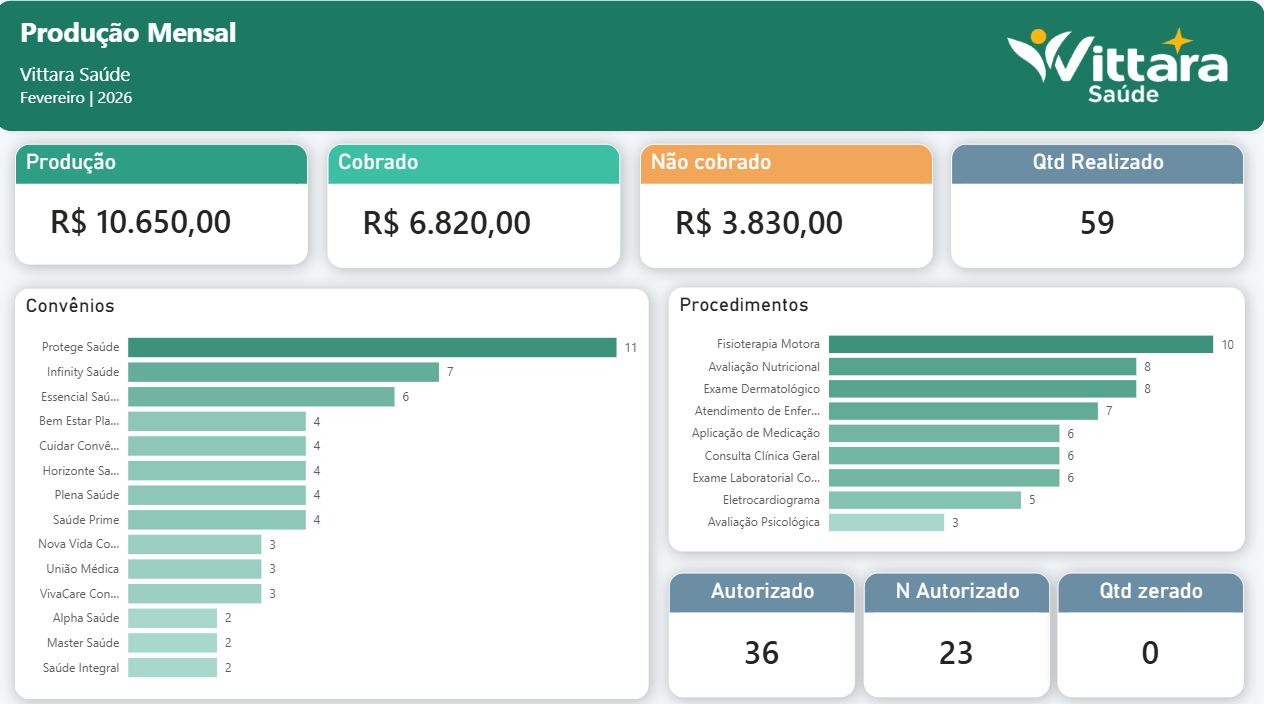

Layout of this report page (visuals, bound fields, positions):
{"tool":"powerbi","page":{"name":"Página 1","canvas":[1280,720],"ordinal":0},"visuals":[{"type":"barChart","title":"Convênios","fields":{"Category":["ProdFev.Convênio"],"Y":["CountNonNull(ProdFev.Convênio)"]},"box":[25,293.3,633.3,410],"z":0},{"type":"clusteredBarChart","title":" Procedimentos ","fields":{"Category":["Cadastro de Autorizações.Procedimento"],"Y":["CountNonNull(Cadastro de Autorizações.Procedimento)"]},"box":[678.6,292.9,576.2,264.3],"z":1000},{"type":"cardVisual","title":"Produção","fields":{"Data":["Sum(ProdFev.Valor)"]},"box":[25.6,149.3,293,120.9],"z":2000},{"type":"cardVisual","title":"Não cobrado","fields":{"Data":["Sum(ProdFev.Valor)"]},"box":[650,149.3,293,123.7],"z":3000},{"type":"cardVisual","title":"Cobrado","fields":{"Data":["Sum(ProdFev.Valor)"]},"box":[337.1,149.3,293,123.7],"z":4000},{"type":"cardVisual","title":"Autorizado","fields":{"Data":["ProdFev.QtadAut"]},"box":[678.4,577.4,186.3,125.2],"z":5000},{"type":"cardVisual","title":"Qtd Realizado","fields":{"Data":["ProdFev.QuantRealizado"]},"box":[961.4,149.3,293,123.7],"z":6000},{"type":"cardVisual","title":"N Autorizado","fields":{"Data":["ProdFev.QtadAut"]},"box":[873.2,577.4,186.3,125.2],"z":7000},{"type":"cardVisual","title":"Qtd zerado","fields":{"Data":["Sum(ProdFev.Valor)"]},"box":[1068.1,577.4,186.3,125.2],"z":8000},{"type":"shape","box":[0,0,1280.3,141.8],"z":9000},{"type":"textbox","box":[25.6,14.2,278.8,72.5],"z":10000},{"type":"textbox","box":[25.6,61.2,202,66.8],"z":11000},{"type":"image","box":[1016.2,14.7,225,111.3],"z":12000}]}

Visuals, with their boxes in screenshot pixels (x1, y1, x2, y2), scaled from the page's 1280x720 canvas onto the 1264x704 screenshot:
"Convênios" barChart: x1=25, y1=287, x2=650, y2=688
" Procedimentos " clusteredBarChart: x1=670, y1=286, x2=1239, y2=545
"Produção" cardVisual: x1=25, y1=146, x2=315, y2=264
"Não cobrado" cardVisual: x1=642, y1=146, x2=931, y2=267
"Cobrado" cardVisual: x1=333, y1=146, x2=622, y2=267
"Autorizado" cardVisual: x1=670, y1=565, x2=854, y2=687
"Qtd Realizado" cardVisual: x1=949, y1=146, x2=1239, y2=267
"N Autorizado" cardVisual: x1=862, y1=565, x2=1046, y2=687
"Qtd zerado" cardVisual: x1=1055, y1=565, x2=1239, y2=687
shape: x1=0, y1=0, x2=1263, y2=139
textbox: x1=25, y1=14, x2=301, y2=85
textbox: x1=25, y1=60, x2=225, y2=125
image: x1=1003, y1=14, x2=1226, y2=123
